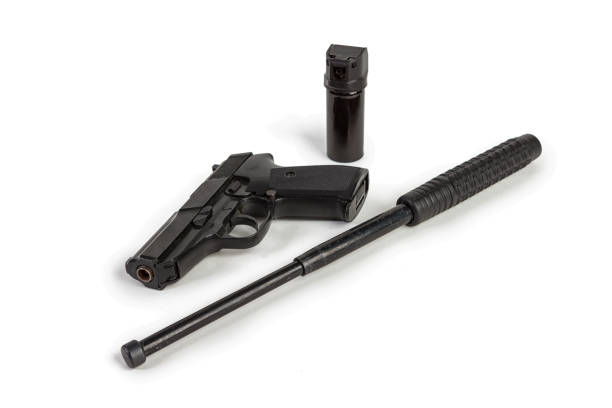pistol: (122, 138, 376, 294)
